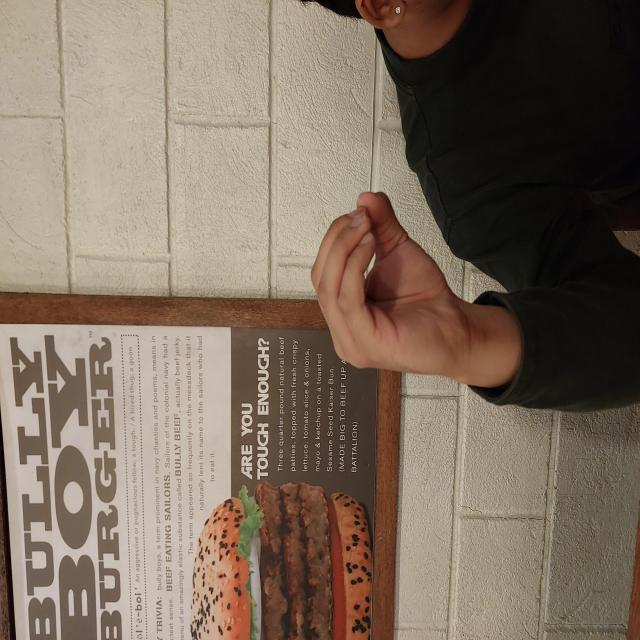O: (262, 309, 456, 472)
